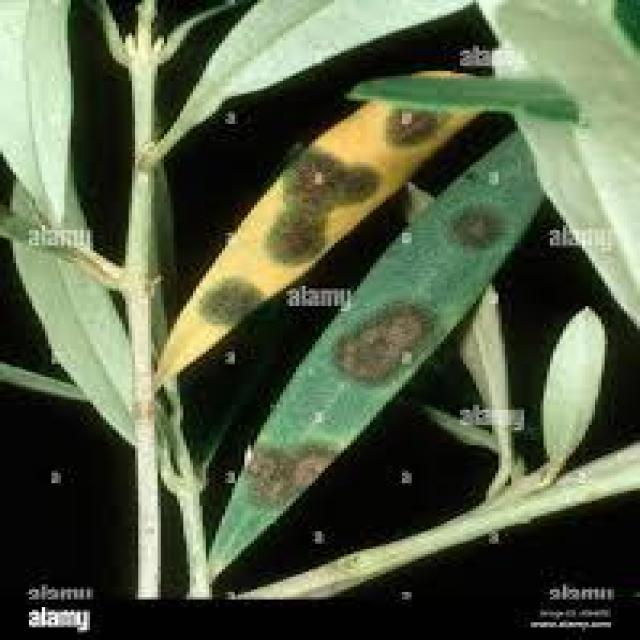Peacock Eye: (212, 134, 540, 567), (154, 101, 473, 387)
